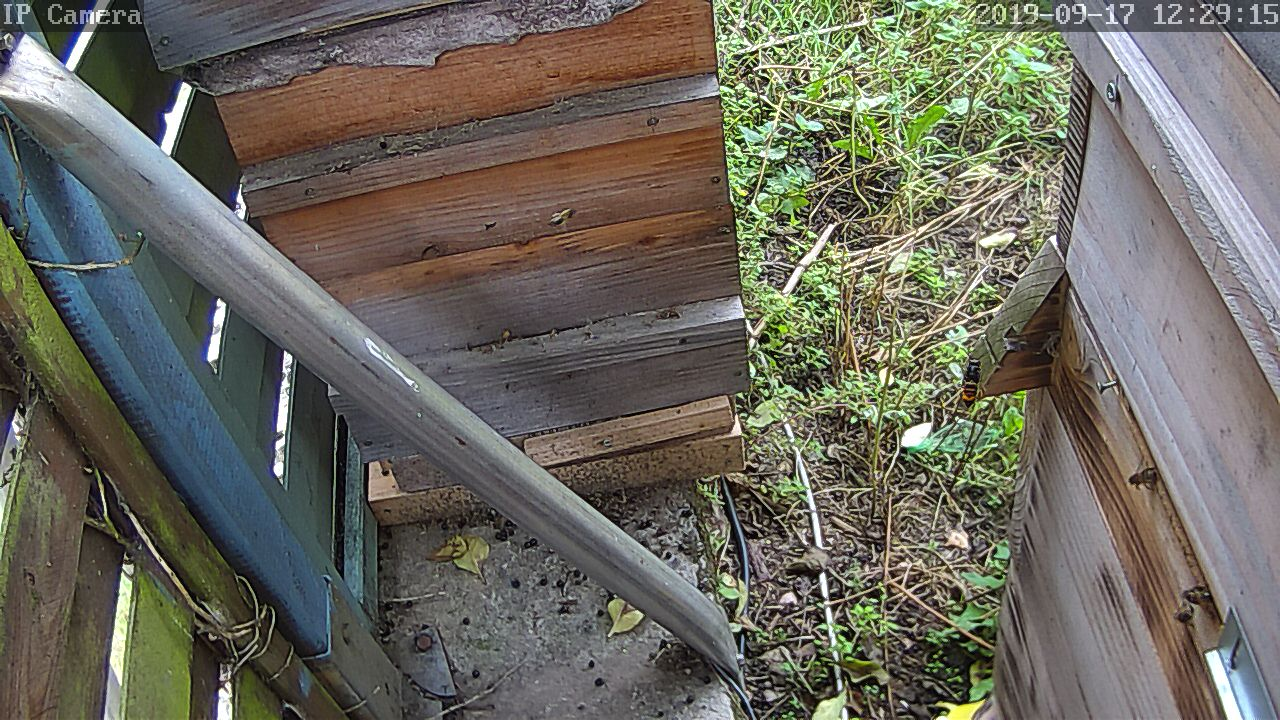bee: (1121, 461, 1165, 495), (1171, 598, 1199, 630), (1187, 580, 1213, 610)
hornet: (953, 349, 989, 410)
